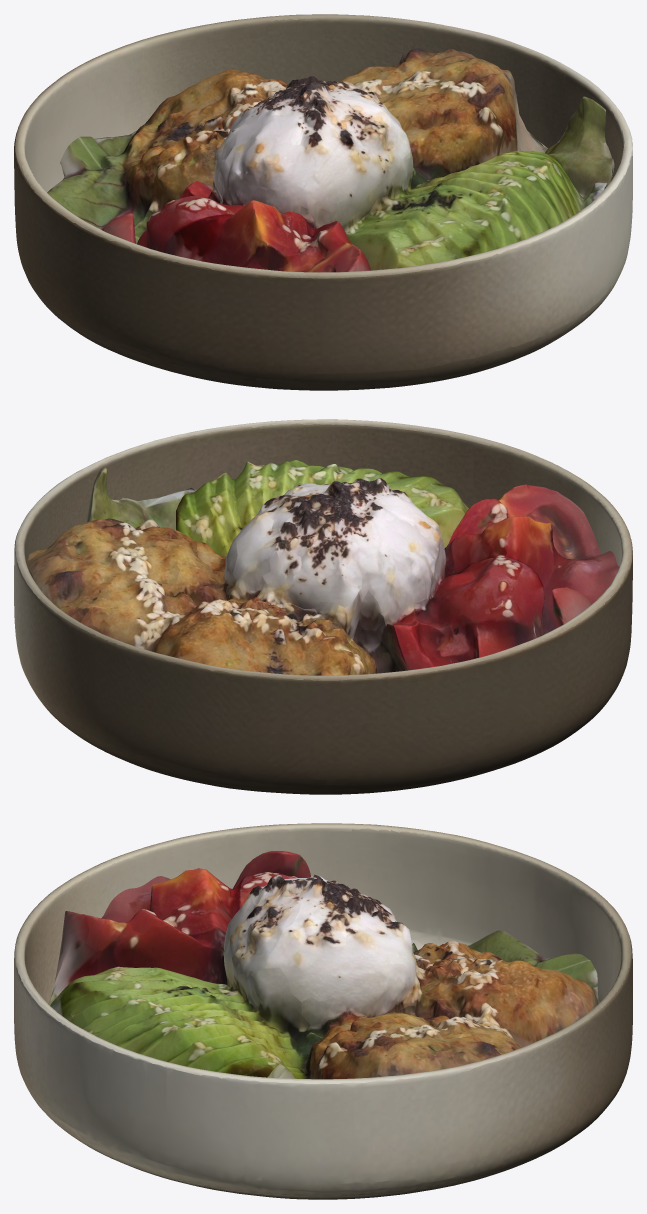
Rendered from setno.1.glb.
The picture shows the model from 3 angles, top to bottom: view 1: azimuth 30°, elevation 25°; view 2: azimuth 150°, elevation 25°; view 3: azimuth 270°, elevation 25°; orthographic projection.
Parts seen in each view (by area): view 1: /Root/Scenes/Scene/Object_52/Object_56/Object_57/Submesh_0, /Root/Scenes/Scene/Object_52/Object_53/Submesh_0; view 2: /Root/Scenes/Scene/Object_52/Object_56/Object_57/Submesh_0, /Root/Scenes/Scene/Object_52/Object_53/Submesh_0; view 3: /Root/Scenes/Scene/Object_52/Object_56/Object_57/Submesh_0, /Root/Scenes/Scene/Object_52/Object_53/Submesh_0.
Boxes of the visible parts, <box> form: /Root/Scenes/Scene/Object_52/Object_56/Object_57/Submesh_0: <box>14,14,632,390</box>; /Root/Scenes/Scene/Object_52/Object_53/Submesh_0: <box>47,48,614,272</box>; /Root/Scenes/Scene/Object_52/Object_56/Object_57/Submesh_0: <box>14,419,632,794</box>; /Root/Scenes/Scene/Object_52/Object_53/Submesh_0: <box>26,460,619,675</box>; /Root/Scenes/Scene/Object_52/Object_56/Object_57/Submesh_0: <box>14,823,632,1199</box>; /Root/Scenes/Scene/Object_52/Object_53/Submesh_0: <box>48,851,599,1079</box>.
Bounding box in the file's own units: 0.1613 × 0.0584 × 0.1611.
2 materials, 2 textured.
